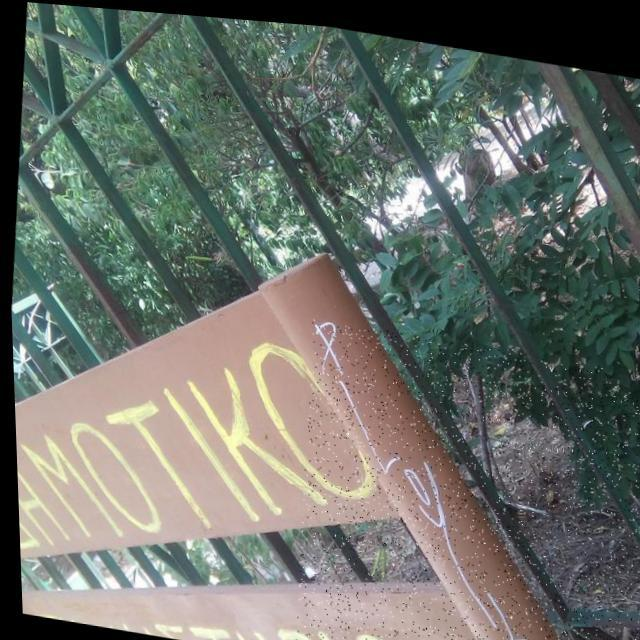-: (280, 310, 640, 640)
